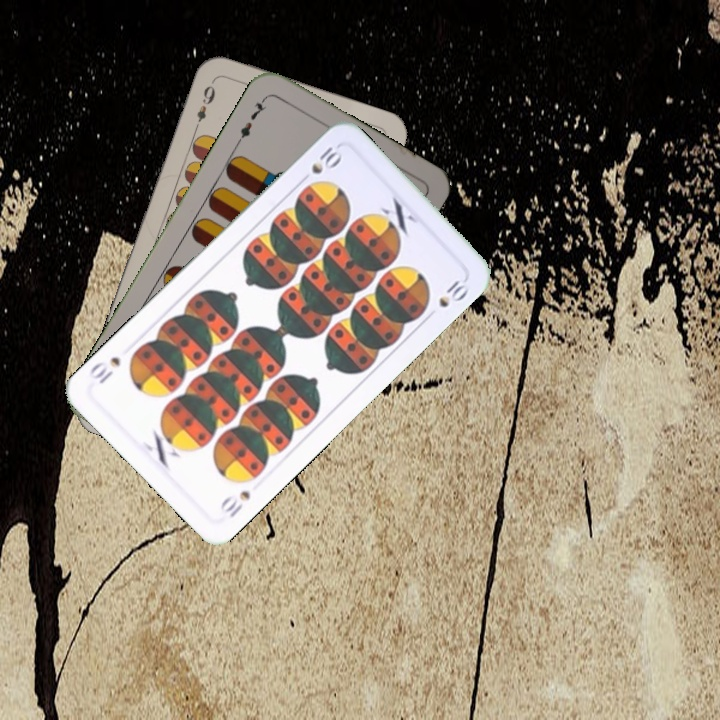E7: (233, 93, 270, 147)
E9: (190, 77, 218, 134)
S10: (307, 142, 345, 177), (216, 486, 253, 521)
